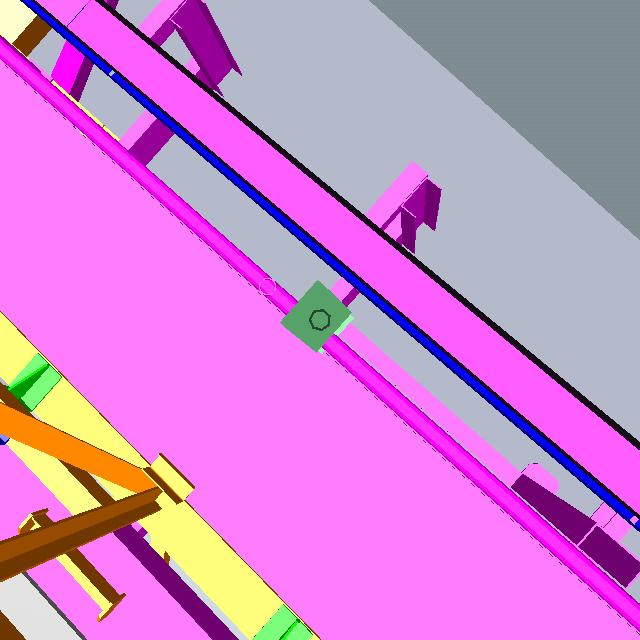Poste: (306, 307, 333, 336)
Soporte: (499, 443, 640, 596)
